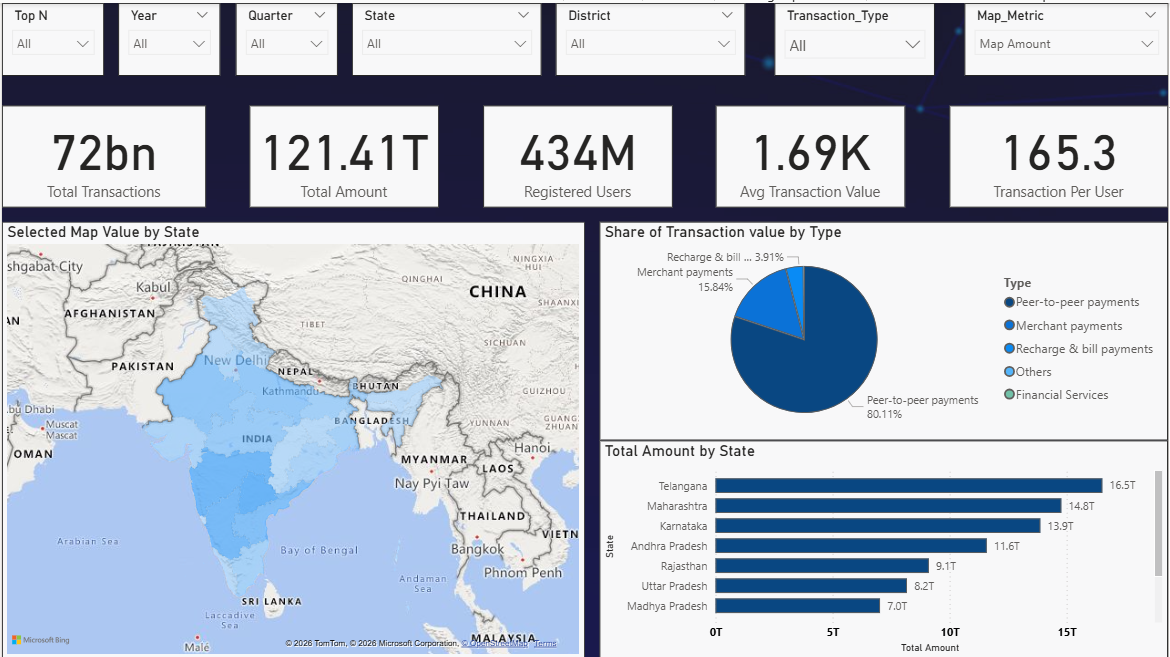

Layout of this report page (visuals, bound fields, positions):
{"tool":"powerbi","page":{"name":"Overview","canvas":[1280,720],"ordinal":0},"visuals":[{"type":"slicer","fields":{"Values":["Top N.Top N"]},"box":[0,0,112,80],"z":0},{"type":"clusteredBarChart","fields":{"Category":["Dim_State.State"],"Y":["_Measures.Total Amount"]},"box":[656,480,624,240],"z":1000},{"type":"slicer","fields":{"Values":["Dim_Period.year"]},"box":[128,0,112,80],"z":2000},{"type":"slicer","fields":{"Values":["Dim_Period.quarter"]},"box":[256,0,112,80],"z":3000},{"type":"slicer","fields":{"Values":["Dim_State.State"]},"box":[384,0,208,80],"z":4000},{"type":"slicer","fields":{"Values":["Dim_District.district"]},"box":[608,0,208,80],"z":5000},{"type":"slicer","fields":{"Values":["Agg_Transaction.trans_type"]},"box":[848,0,176,80],"z":6000},{"type":"slicer","fields":{"Values":["Map_Metric.Map_Metric"]},"box":[1056,0,224,80],"z":7000},{"type":"filledMap","fields":{"Category":["Dim_State.State","Dim_District.district"]},"box":[0,240,640,480],"z":8000},{"type":"card","fields":{"Values":["_Measures.Total Transactions"]},"box":[0,112,224,112],"z":9000},{"type":"card","fields":{"Values":["_Measures.Total Amount"]},"box":[272,112,208,112],"z":10000},{"type":"card","fields":{"Values":["_Measures.Registered Users"]},"box":[528,112,208,112],"z":11000},{"type":"card","fields":{"Values":["_Measures.Avg Transaction Value"]},"box":[784,112,208,112],"z":12000},{"type":"card","fields":{"Values":["_Measures.Transactions per Registered User"]},"box":[1040,112,240,112],"z":13000},{"type":"pieChart","fields":{"Y":["_Measures.Total Amount"],"Category":["Agg_Transaction.trans_type"]},"box":[656,240,624,240],"z":14000}]}

Visuals, with their boxes in screenshot pixels (x1, y1, x2, y2), scaled from the page's 1280x720 canvas onto the 1170x657 screenshot:
slicer - Top N.Top N: (0,0,102,73)
clusteredBarChart - Dim_State.State x _Measures.Total Amount: (600,438,1169,656)
slicer - Dim_Period.year: (117,0,219,73)
slicer - Dim_Period.quarter: (234,0,336,73)
slicer - Dim_State.State: (351,0,541,73)
slicer - Dim_District.district: (556,0,746,73)
slicer - Agg_Transaction.trans_type: (775,0,936,73)
slicer - Map_Metric.Map_Metric: (965,0,1169,73)
filledMap - Dim_State.State x Dim_District.district: (0,219,585,656)
card - _Measures.Total Transactions: (0,102,205,204)
card - _Measures.Total Amount: (249,102,439,204)
card - _Measures.Registered Users: (483,102,673,204)
card - _Measures.Avg Transaction Value: (717,102,907,204)
card - _Measures.Transactions per Registered User: (951,102,1169,204)
pieChart - _Measures.Total Amount x Agg_Transaction.trans_type: (600,219,1169,438)
